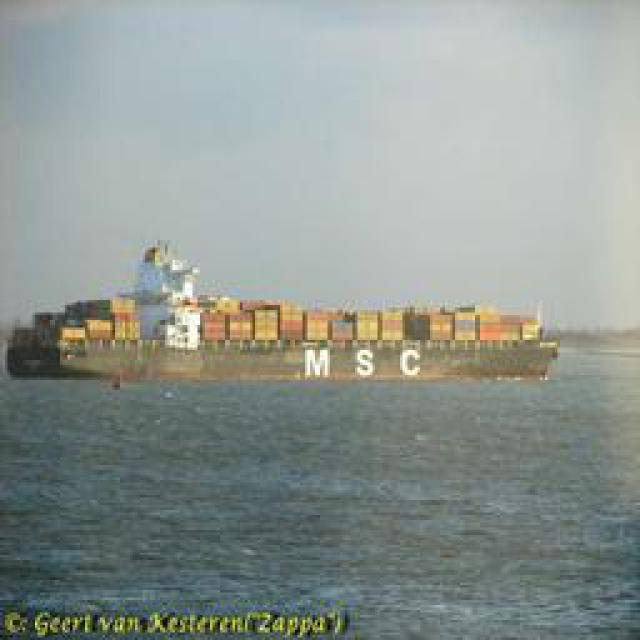Ship: (27, 295, 555, 385)
